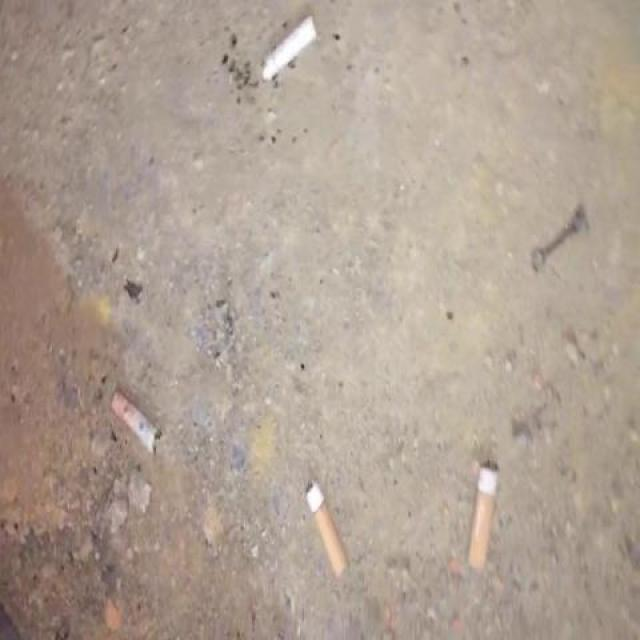non-organic waste: (300, 476, 356, 583), (254, 11, 321, 90), (464, 455, 501, 573), (110, 384, 165, 463)
